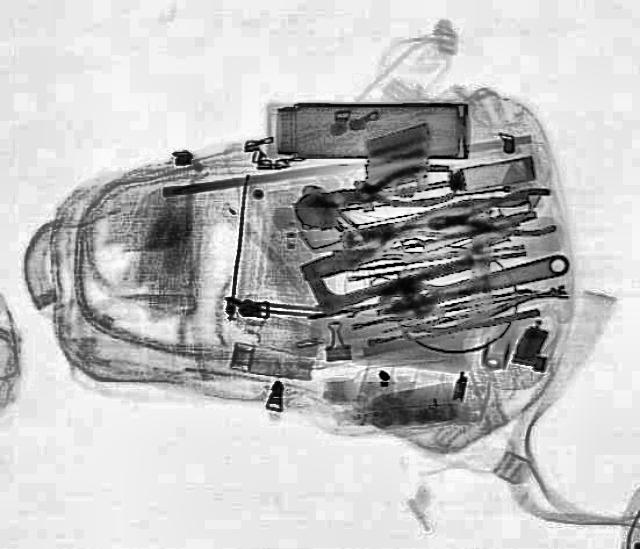Pliers: (296, 158, 458, 224), (422, 184, 556, 248)
Wrench: (366, 244, 574, 324)
